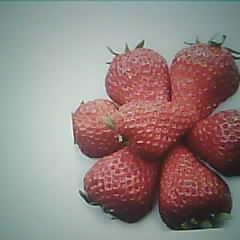straw-ripe: (159, 150, 231, 224), (84, 149, 158, 221), (169, 43, 239, 116), (119, 102, 197, 155), (106, 49, 170, 101)
